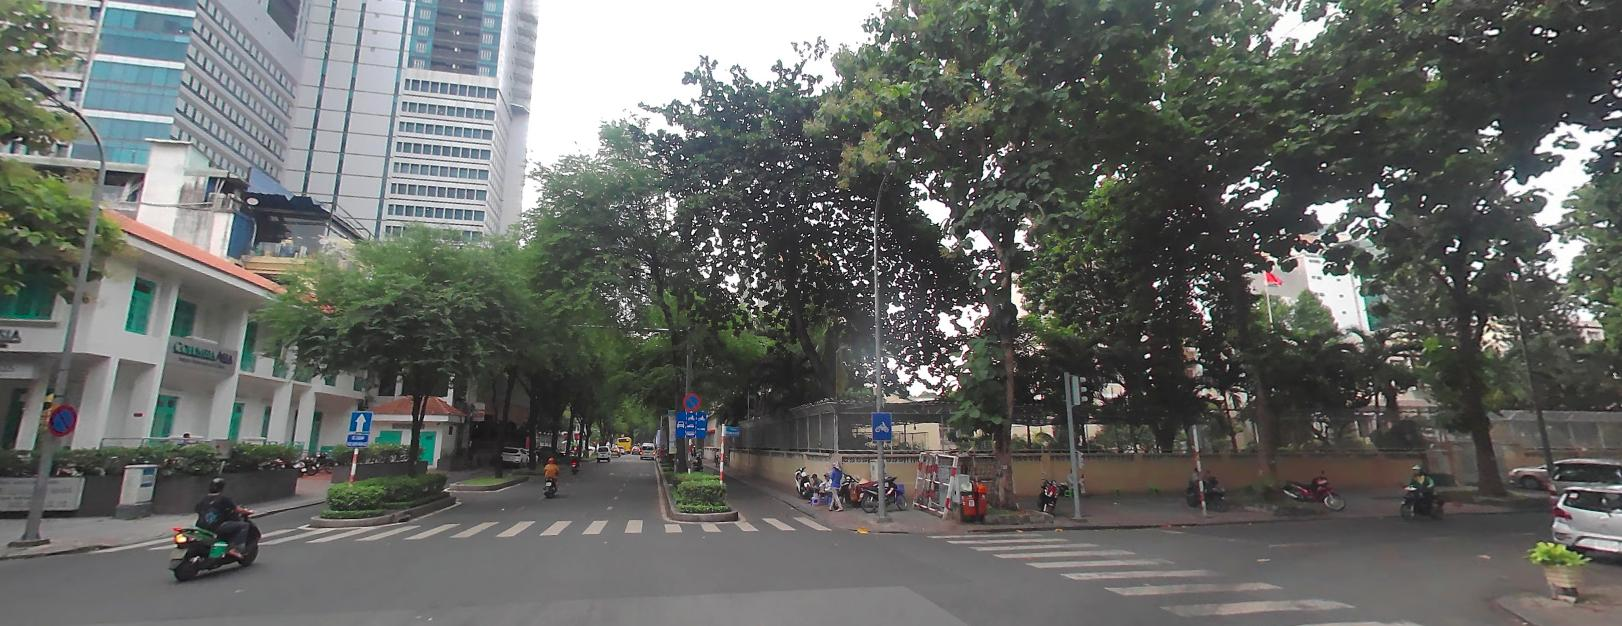Cam dung va do: (48, 403, 77, 434), (682, 391, 700, 409)
